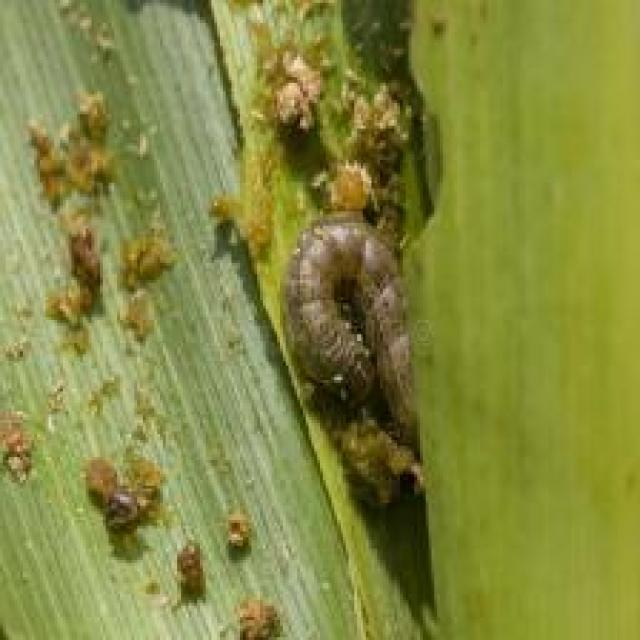Plaga: (258, 181, 438, 478)
